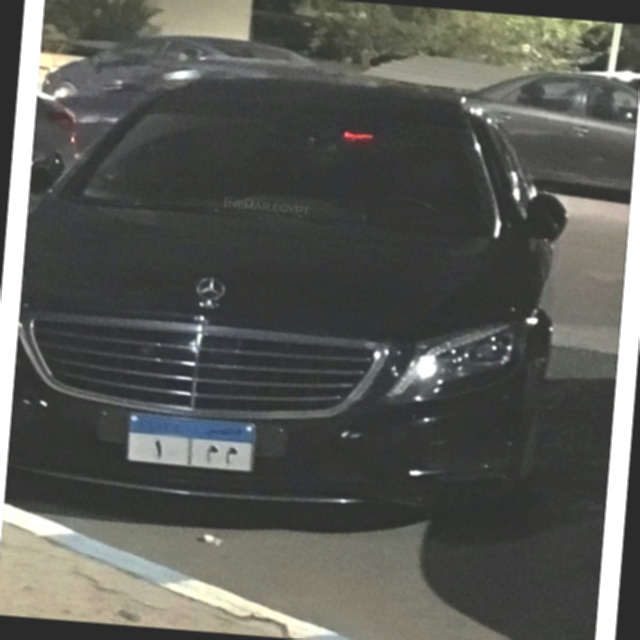License Plate: (119, 410, 260, 477)
